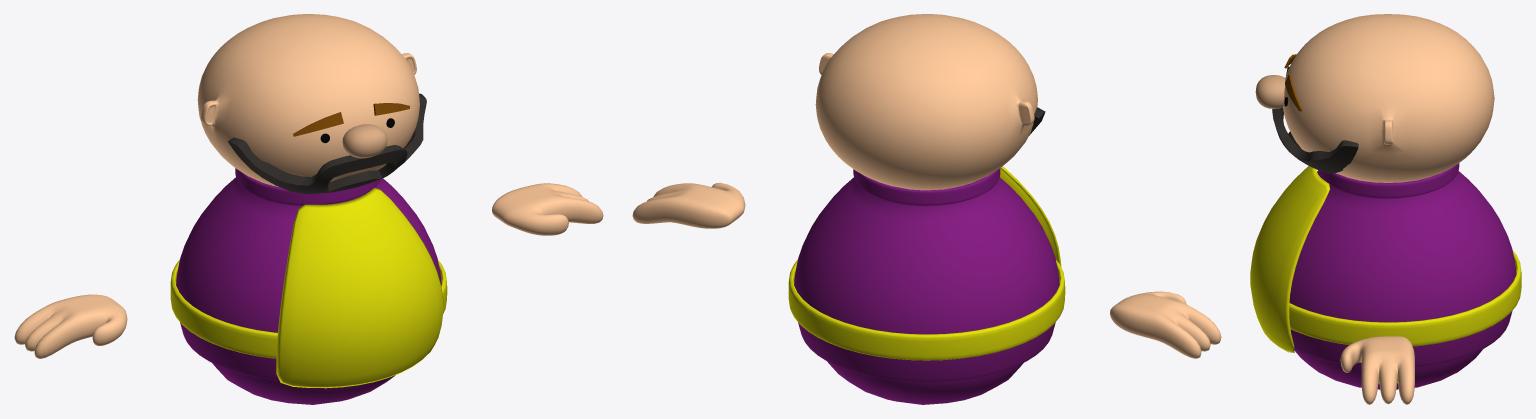
The model's file is Fogaca.fbx.
3 renders of one model, left to right at view 1: azimuth 30°, elevation 25°; view 2: azimuth 150°, elevation 25°; view 3: azimuth 270°, elevation 25°, orthographic. The views are drawn at different scales.
Visible parts, largest first — view 1: Avental, Head, Corpo, HandR, Barba, HandL, Cinto, Calca, Nose; view 2: Corpo, Head, Cinto, HandR, HandL, Calca, Avental; view 3: Corpo, Head, Avental, Cinto, HandL, Calca, Barba, Nose, SombrancelhaL.
Part boxes in pixels (bbox=[...]): Avental: bbox=[276, 187, 443, 388]; Head: bbox=[197, 14, 419, 187]; Corpo: bbox=[176, 168, 441, 380]; HandR: bbox=[14, 294, 127, 358]; Barba: bbox=[228, 93, 426, 193]; HandL: bbox=[492, 183, 603, 235]; Cinto: bbox=[170, 259, 447, 358]; Calca: bbox=[212, 363, 395, 404]; Nose: bbox=[342, 124, 387, 158]; Corpo: bbox=[794, 168, 1059, 381]; Head: bbox=[815, 14, 1037, 190]; Cinto: bbox=[788, 259, 1065, 360]; HandR: bbox=[1110, 291, 1221, 358]; HandL: bbox=[632, 182, 745, 228]; Calca: bbox=[827, 361, 1023, 404]; Avental: bbox=[1000, 166, 1061, 266]; Corpo: bbox=[1289, 163, 1516, 366]; Head: bbox=[1283, 14, 1494, 182]; Avental: bbox=[1250, 166, 1329, 352]; Cinto: bbox=[1289, 250, 1521, 346]; HandL: bbox=[1340, 336, 1414, 404]; Calca: bbox=[1294, 349, 1482, 389]; Barba: bbox=[1272, 107, 1358, 173]; Nose: bbox=[1255, 75, 1285, 108]; SombrancelhaL: bbox=[1285, 74, 1302, 111].
Size of the model in its own units: 589 by 357 by 253.
